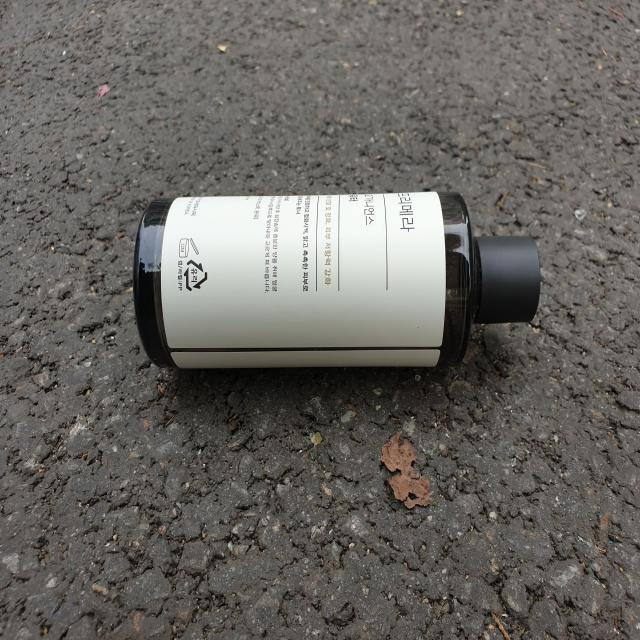glass: (133, 191, 541, 368)
